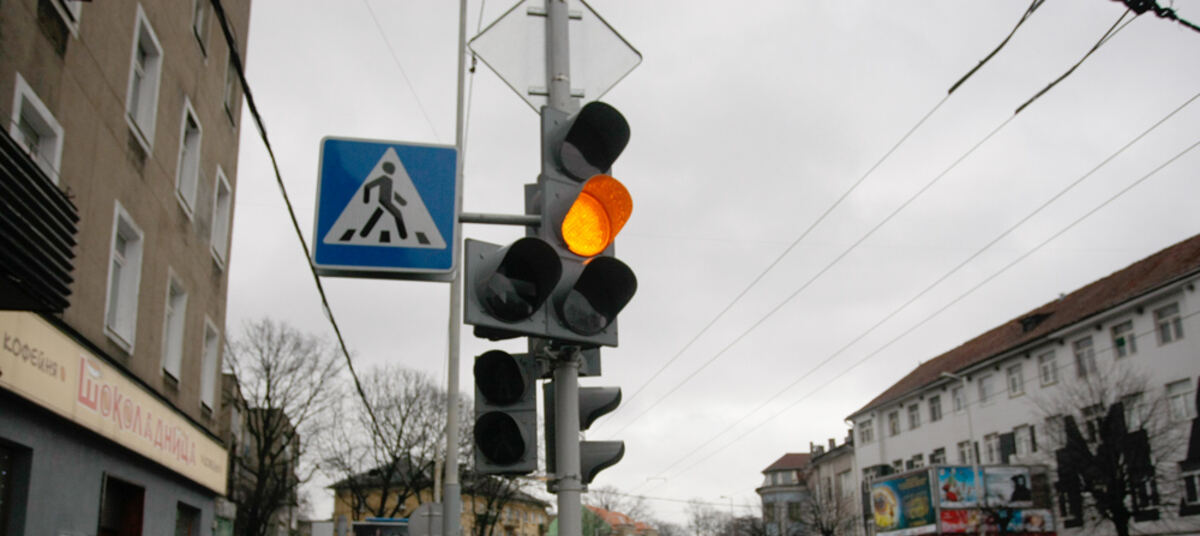tl: (468, 95, 637, 349)
